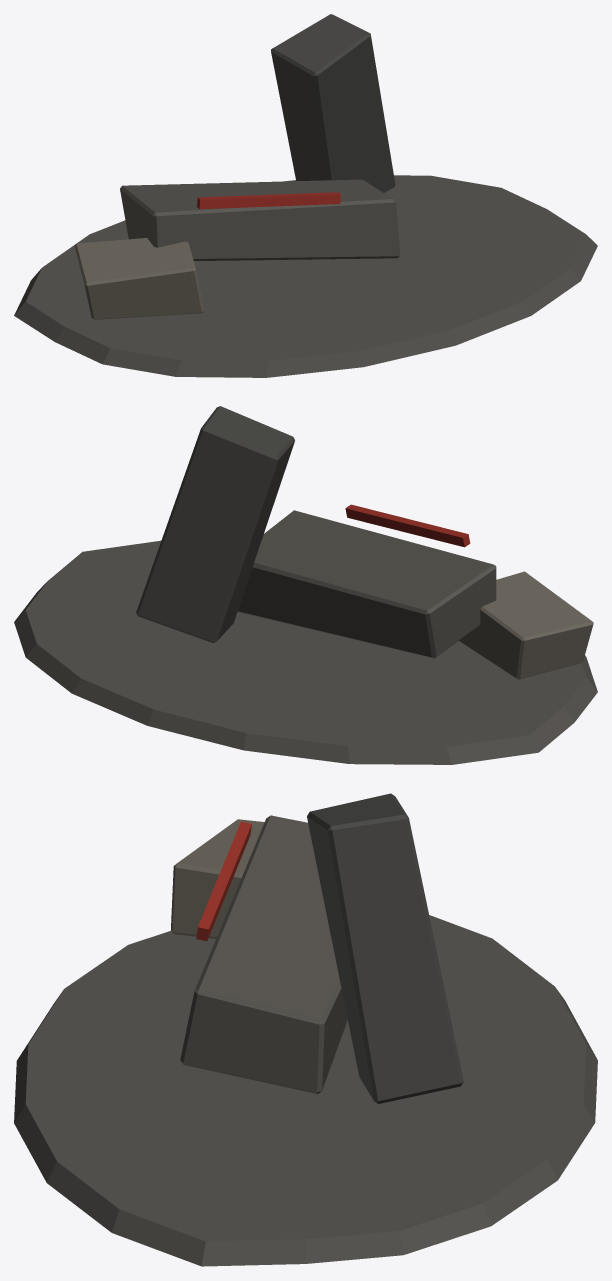
Rendered from SM_GIA_BloodAxeCairnSlabCluster_A01_LOD2.fbx.
3 views of the same model, one above another, from view 1: azimuth 30°, elevation 25°; view 2: azimuth 150°, elevation 25°; view 3: azimuth 270°, elevation 25° (orthographic). The views are drawn at different scales.
Parts seen in each view (by area): view 1: LOD2_AshMudBase_Simplified, LOD2_Stone_PrimaryFallenSlab, LOD2_Stone_RearUprightMass, LOD2_Stone_LeftLowMass, LOD2_BloodAxePaint_BroadSlash; view 2: LOD2_AshMudBase_Simplified, LOD2_Stone_PrimaryFallenSlab, LOD2_Stone_RearUprightMass, LOD2_Stone_LeftLowMass, LOD2_BloodAxePaint_BroadSlash; view 3: LOD2_AshMudBase_Simplified, LOD2_Stone_RearUprightMass, LOD2_Stone_PrimaryFallenSlab, LOD2_Stone_LeftLowMass, LOD2_BloodAxePaint_BroadSlash.
Boxes of the visible parts, x1,y1,x2,y2 form: LOD2_AshMudBase_Simplified: (14,175,597,377); LOD2_Stone_PrimaryFallenSlab: (120,179,400,260); LOD2_Stone_RearUprightMass: (271,14,395,192); LOD2_Stone_LeftLowMass: (74,238,204,319); LOD2_BloodAxePaint_BroadSlash: (197,192,340,209); LOD2_AshMudBase_Simplified: (14,540,597,764); LOD2_Stone_PrimaryFallenSlab: (237,510,496,658); LOD2_Stone_RearUprightMass: (136,406,294,642); LOD2_Stone_LeftLowMass: (458,571,593,679); LOD2_BloodAxePaint_BroadSlash: (345,504,470,547); LOD2_AshMudBase_Simplified: (14,915,597,1266); LOD2_Stone_RearUprightMass: (307,793,463,1103); LOD2_Stone_PrimaryFallenSlab: (180,815,347,1093); LOD2_Stone_LeftLowMass: (171,819,264,938); LOD2_BloodAxePaint_BroadSlash: (196,821,251,941).
Size of the model in its own units: 20681 by 29273 by 12435.
